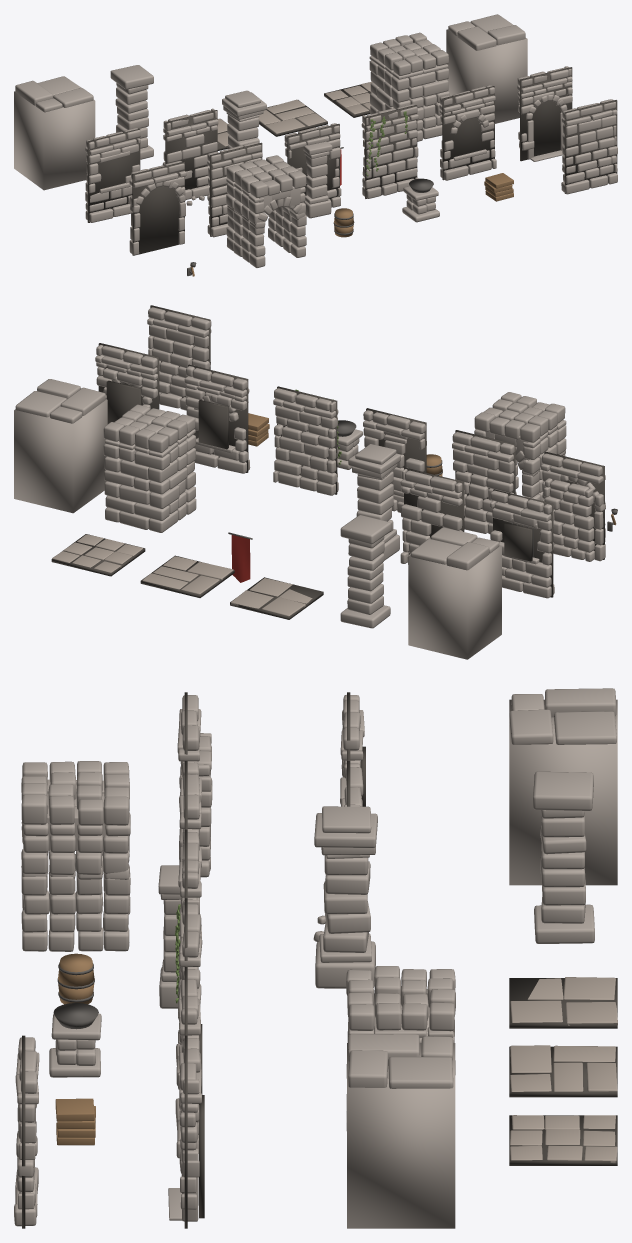
File: kit_mazmorra.glb
The picture shows the model from 3 angles, top to bottom: view 1: azimuth 30°, elevation 25°; view 2: azimuth 150°, elevation 25°; view 3: azimuth 270°, elevation 25°; orthographic projection. The views are drawn at different scales.
Parts seen in each view (by area): view 1: nucleo_b, arco, nucleo, muro, cara, cara_nicho, cara_arco_ciego, cara_hiedra, cara_puerta, cara_reja, cara_columna, cara_rota (+8 smaller); view 2: nucleo_b, nucleo, muro, cara_hiedra, cara_arco_ciego, cara_nicho, cara_reja, arco, cara_b, cara, pilar, cara_rota (+9 smaller); view 3: nucleo, arco, nucleo_b, columna_esquina, pilar, muro, suelo_b, suelo, suelo_sala, cara_puerta, cara, cara_columna (+9 smaller).
Part boxes in pixels (x1,y1,x2,y2): nucleo_b: [14, 76, 95, 190]; arco: [226, 155, 306, 267]; nucleo: [446, 14, 527, 123]; muro: [369, 32, 449, 141]; cara: [561, 99, 617, 194]; cara_nicho: [439, 85, 496, 180]; cara_arco_ciego: [129, 160, 186, 255]; cara_hiedra: [361, 104, 418, 198]; cara_puerta: [517, 66, 572, 161]; cara_reja: [85, 128, 140, 222]; cara_columna: [284, 123, 341, 218]; cara_rota: [162, 108, 218, 205]; nucleo_b: [408, 527, 501, 659]; nucleo: [14, 379, 107, 513]; muro: [103, 404, 196, 532]; cara_hiedra: [273, 386, 341, 495]; cara_arco_ciego: [541, 451, 605, 561]; cara_nicho: [184, 364, 250, 473]; cara_reja: [490, 489, 554, 598]; arco: [474, 392, 566, 500]; cara_b: [452, 430, 516, 533]; cara: [147, 305, 211, 410]; pilar: [340, 515, 391, 628]; cara_rota: [400, 467, 464, 564]; nucleo: [347, 1034, 455, 1228]; arco: [21, 761, 130, 951]; nucleo_b: [509, 688, 617, 885]; columna_esquina: [314, 806, 377, 988]; pilar: [533, 771, 594, 943]; muro: [346, 966, 455, 1130]; suelo_b: [509, 1045, 617, 1097]; suelo: [509, 977, 617, 1028]; suelo_sala: [509, 1115, 617, 1165]; cara_puerta: [168, 1035, 204, 1228]; cara: [14, 1035, 39, 1228]; cara_columna: [158, 829, 201, 1019].
Bounding box in the file's own units: 17.03 × 4.78 × 11.16.
